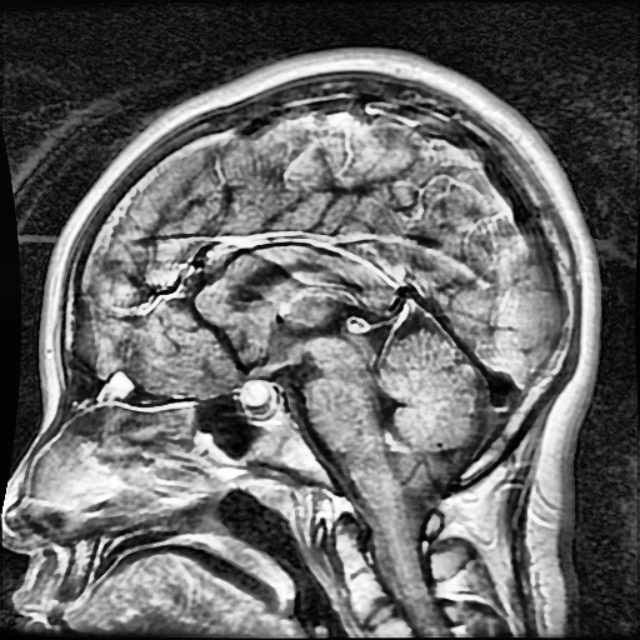Pituitary: (243, 377, 269, 404)
